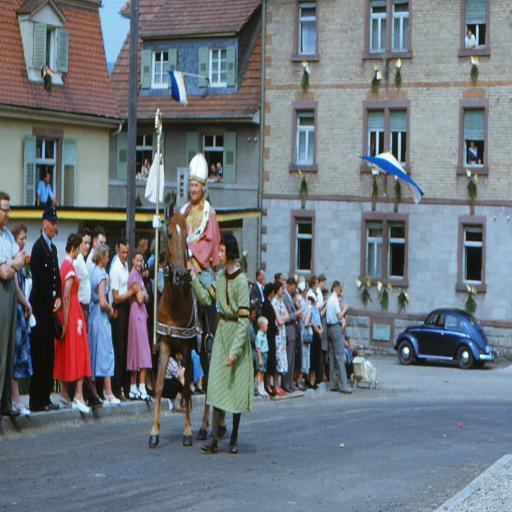horse: (148, 198, 229, 446)
